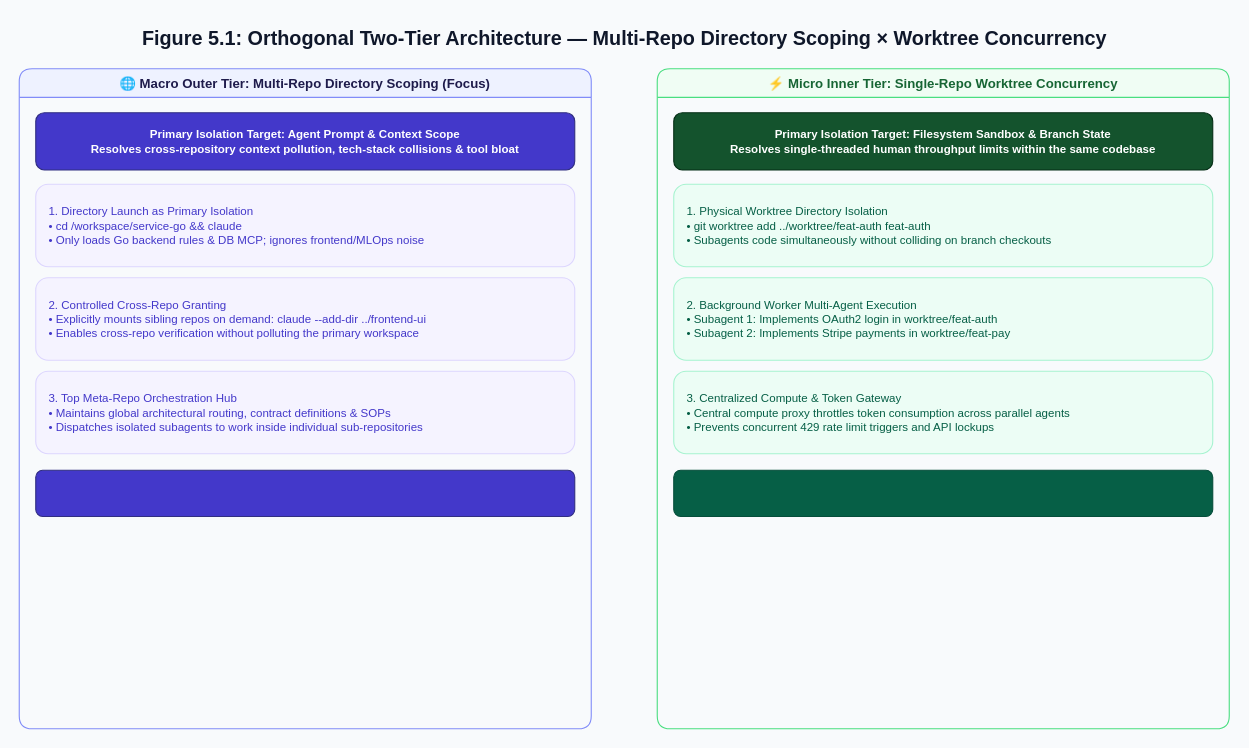
Some shapes in this 1249 by 748 pixel diagram are drawn without their labels. The centre of each missing label's shape, as x and y in pixels:
"Architectural Goal: Context Scoping & Pure Single-Stack Focus" belongs at pixel 305 492.
"Architectural Goal: High Concurrency Delivery & Sandbox Safety" belongs at pixel 943 492.
